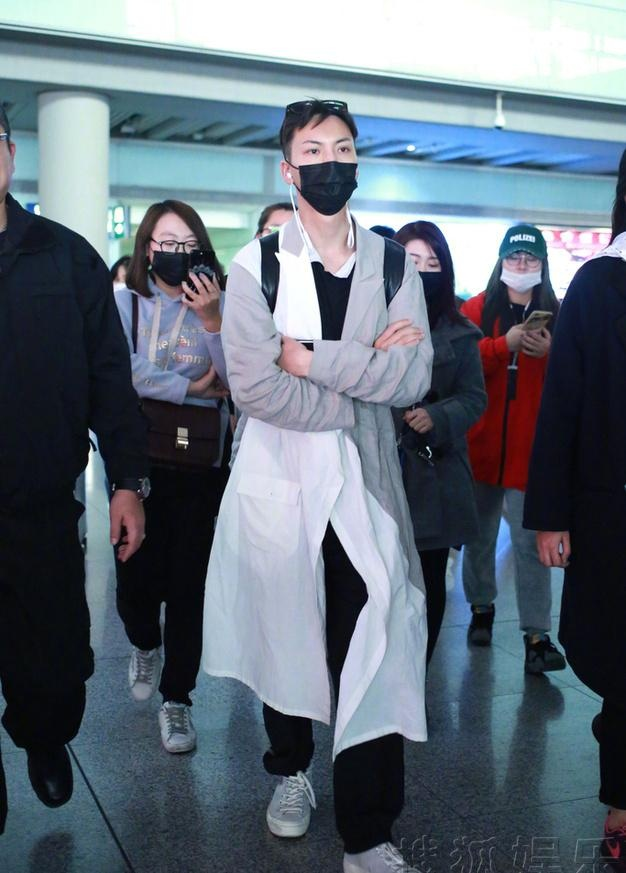Mask: (283, 135, 355, 206)
